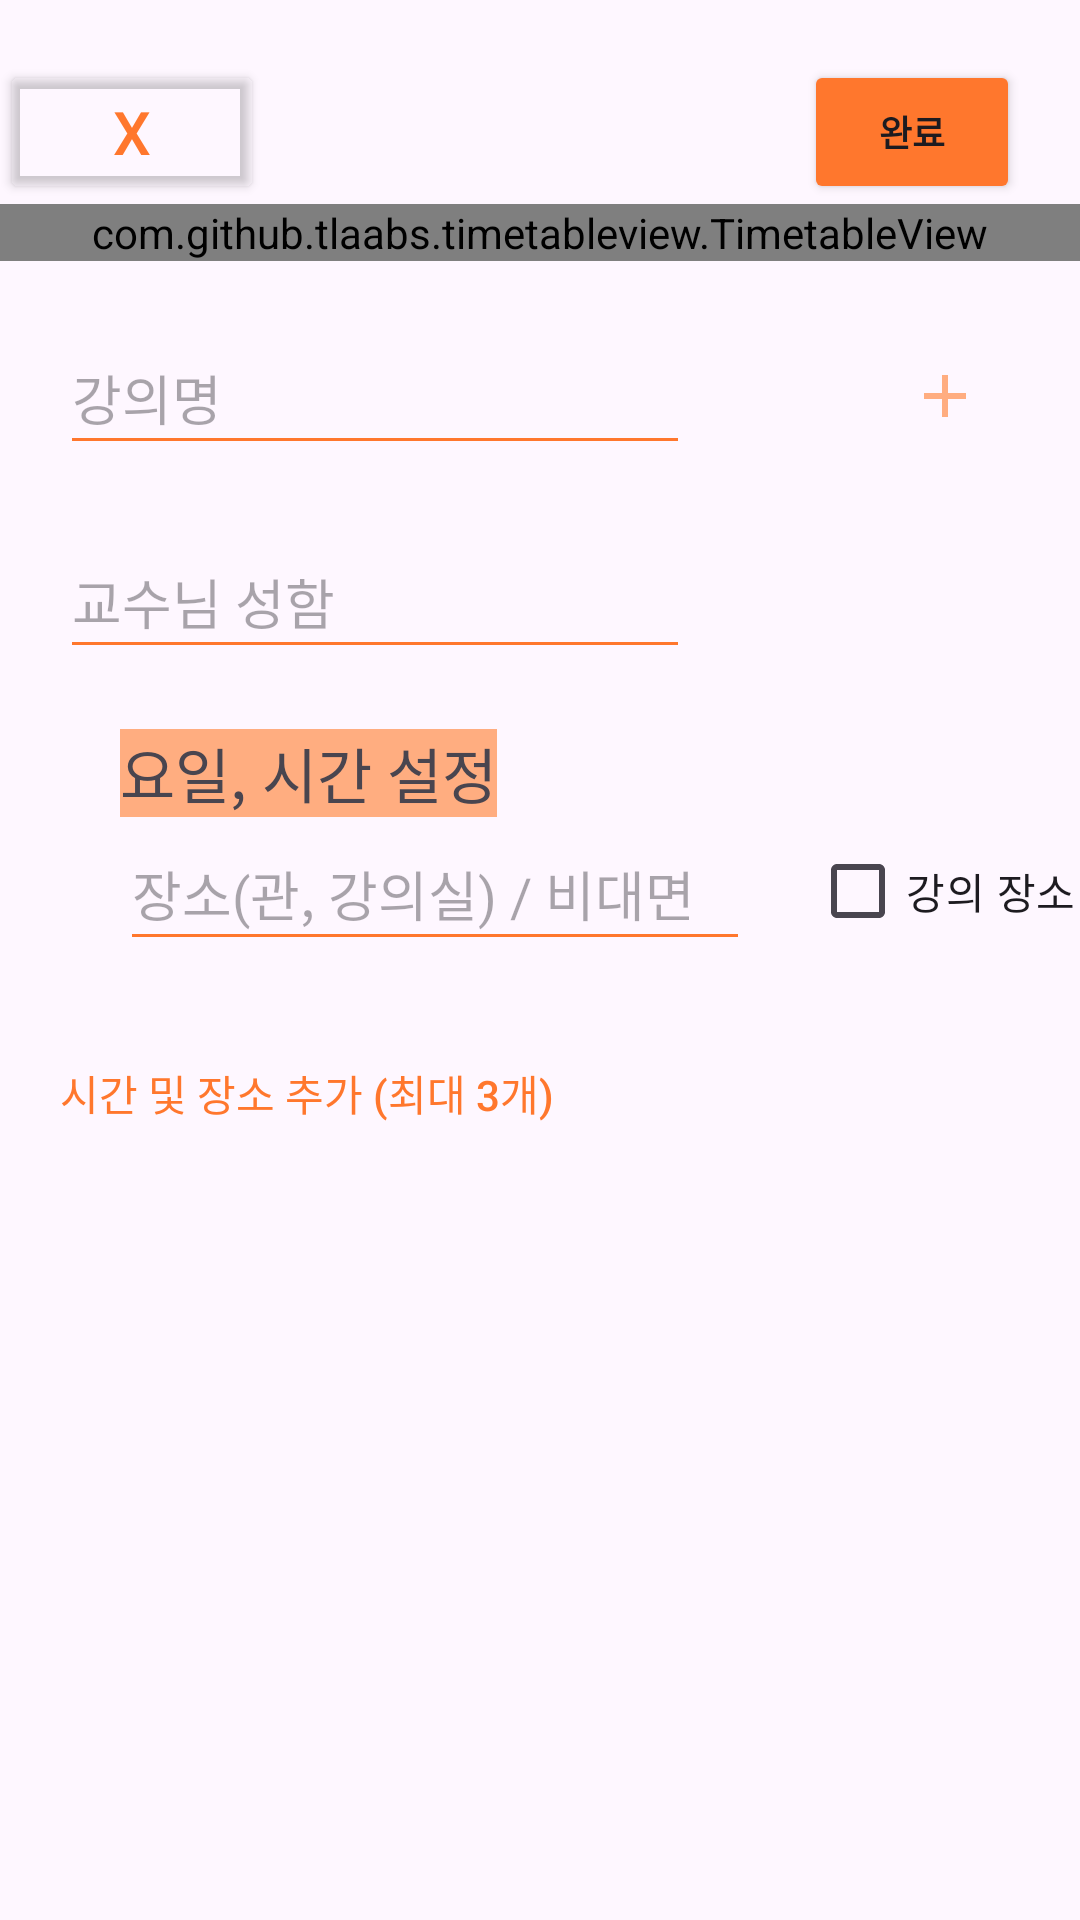

Screen size 1080px x 1920px. Icon name, then its center in pixels as (x=x, y=y):
새 강의 추가: (x=945, y=396)
